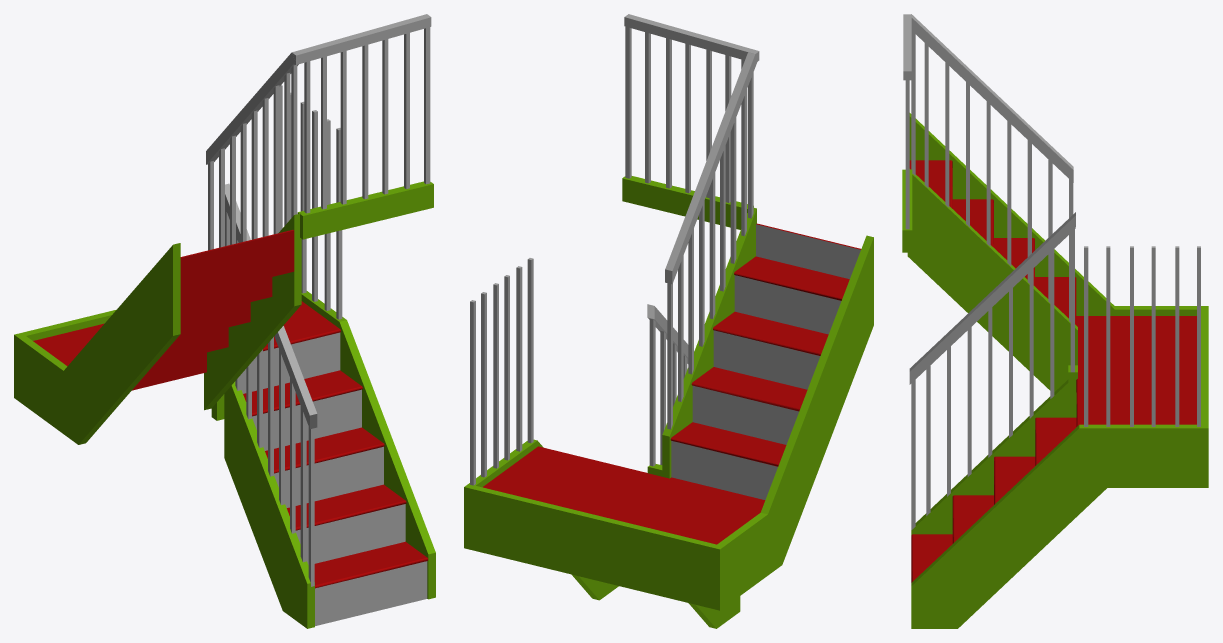
File: stairs.fbx
3 views of the same model, side by side, from view 1: azimuth 30°, elevation 25°; view 2: azimuth 150°, elevation 25°; view 3: azimuth 270°, elevation 25° (orthographic). The views are drawn at different scales.
Parts seen in each view (by area): view 1: stairs, edge, edge2, edge1, block1, polySurface30, polySurface22, polySurface24, polySurface21, polySurface26, polySurface36, polySurface27 (+21 smaller); view 2: stairs, edge, edge1, polySurface24, block1, polySurface30, polySurface39, polySurface40, polySurface41, polySurface42, polySurface43, polySurface44 (+18 smaller); view 3: edge, stairs, edge1, edge2, polySurface22, polySurface24, polySurface43, polySurface42, polySurface40, polySurface39, polySurface28, block1 (+21 smaller).
Part boxes in pixels (x1,y1,x2,y2): stairs: (33, 230, 428, 625); edge: (14, 243, 435, 599); edge2: (224, 381, 314, 628); edge1: (204, 213, 301, 410); block1: (297, 181, 433, 239); polySurface30: (292, 14, 431, 64); polySurface22: (225, 183, 317, 429); polySurface24: (206, 52, 298, 164); polySurface21: (308, 427, 314, 586); polySurface26: (382, 39, 388, 194); polySurface36: (362, 45, 368, 199); polySurface27: (340, 51, 346, 204); stairs: (483, 223, 861, 544); edge: (464, 235, 873, 610); edge1: (662, 208, 756, 478); polySurface24: (665, 52, 758, 284); block1: (622, 176, 753, 229); polySurface30: (624, 14, 759, 61); polySurface39: (527, 258, 533, 443); polySurface40: (516, 266, 522, 451); polySurface41: (504, 275, 509, 460); polySurface42: (493, 283, 498, 468); polySurface43: (481, 292, 486, 477); polySurface44: (470, 300, 475, 485); edge: (909, 113, 1208, 628); stairs: (909, 160, 1196, 582); edge1: (907, 169, 1077, 391); edge2: (911, 379, 1068, 534); polySurface22: (909, 212, 1075, 384); polySurface24: (911, 14, 1073, 182); polySurface43: (1175, 246, 1179, 426); polySurface42: (1151, 246, 1155, 426); polySurface40: (1106, 246, 1110, 426); polySurface39: (1084, 246, 1088, 426); polySurface28: (905, 80, 909, 229); block1: (902, 169, 912, 252).
Size of the model in its own units: 175 by 370 by 185.
